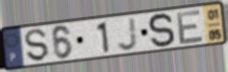1: (96, 20, 111, 54)
6: (51, 24, 75, 61)
E: (176, 8, 206, 46)
J: (116, 16, 139, 52)
S: (147, 12, 177, 50), (23, 28, 50, 63)
